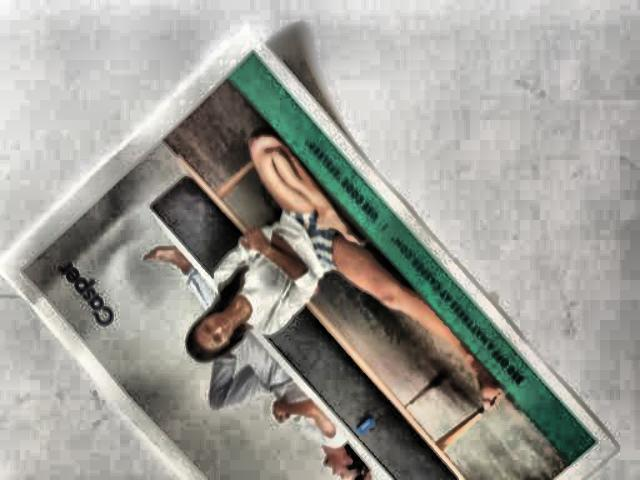Paper: (3, 39, 640, 480)
